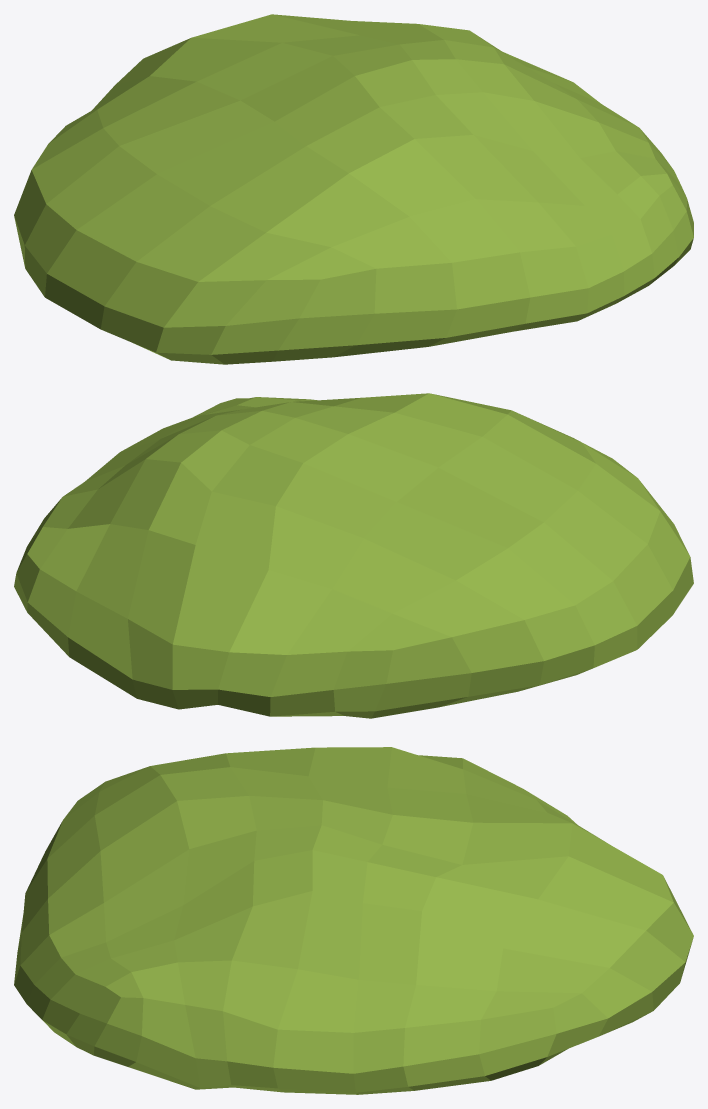
File: grass hill.fbx
The picture shows the model from 3 angles, top to bottom: view 1: azimuth 30°, elevation 25°; view 2: azimuth 150°, elevation 25°; view 3: azimuth 270°, elevation 25°; orthographic projection. The views are drawn at different scales.
Parts seen in each view (by area): view 1: grasshill_LOD0; view 2: grasshill_LOD0; view 3: grasshill_LOD0.
Part boxes in pixels (x1,y1,x2,y2): grasshill_LOD0: [14, 14, 693, 364]; grasshill_LOD0: [14, 393, 693, 718]; grasshill_LOD0: [14, 747, 693, 1094].
Size of what is drawn, in the model's own units: 21.3 by 5.97 by 21.11.
